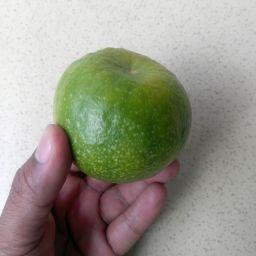Unripe: (59, 49, 191, 163)
